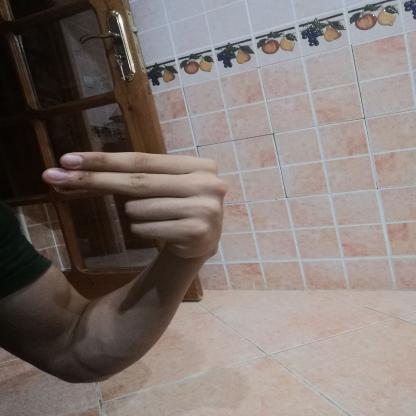AYN: (25, 138, 249, 274)
